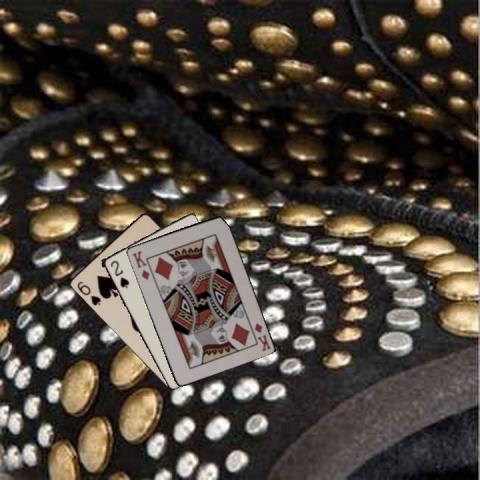2s: (107, 258, 130, 290)
6s: (74, 278, 102, 307)
Kd: (129, 248, 151, 281), (251, 320, 272, 353)
